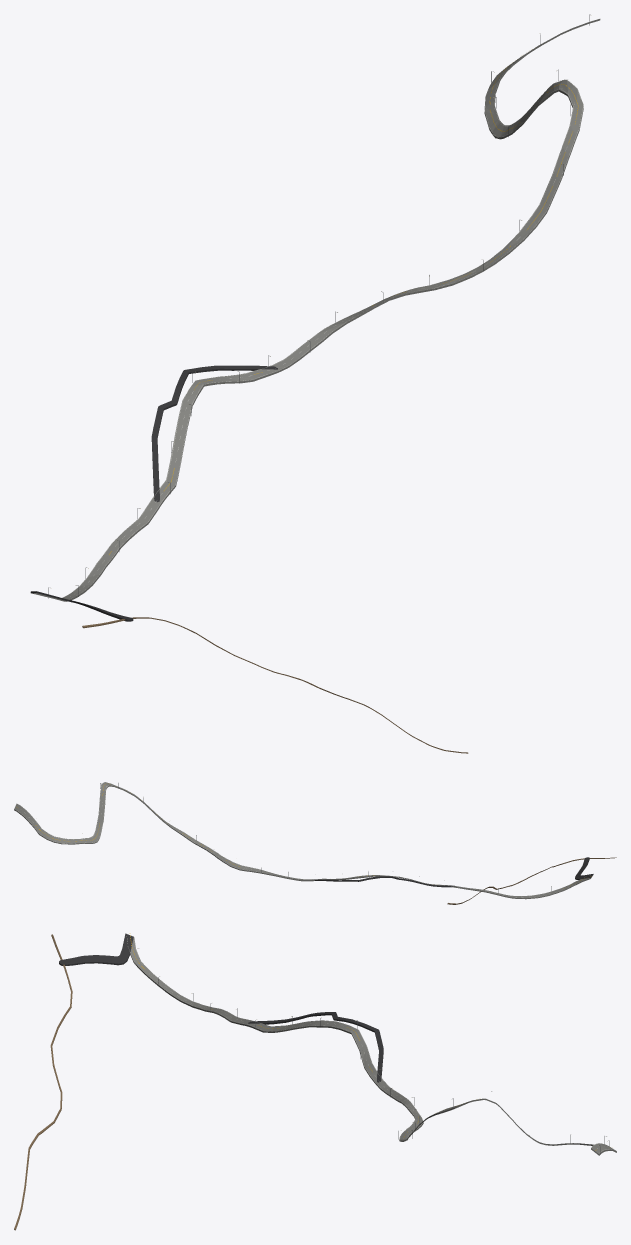
File: 16-54740-29717.d7636dcb.glb
3 renders of one model, top to bottom at view 1: azimuth 30°, elevation 25°; view 2: azimuth 150°, elevation 25°; view 3: azimuth 270°, elevation 25°, orthographic. The views are drawn at different scales.
Size of the model in its own units: 588 by 240 by 451.
